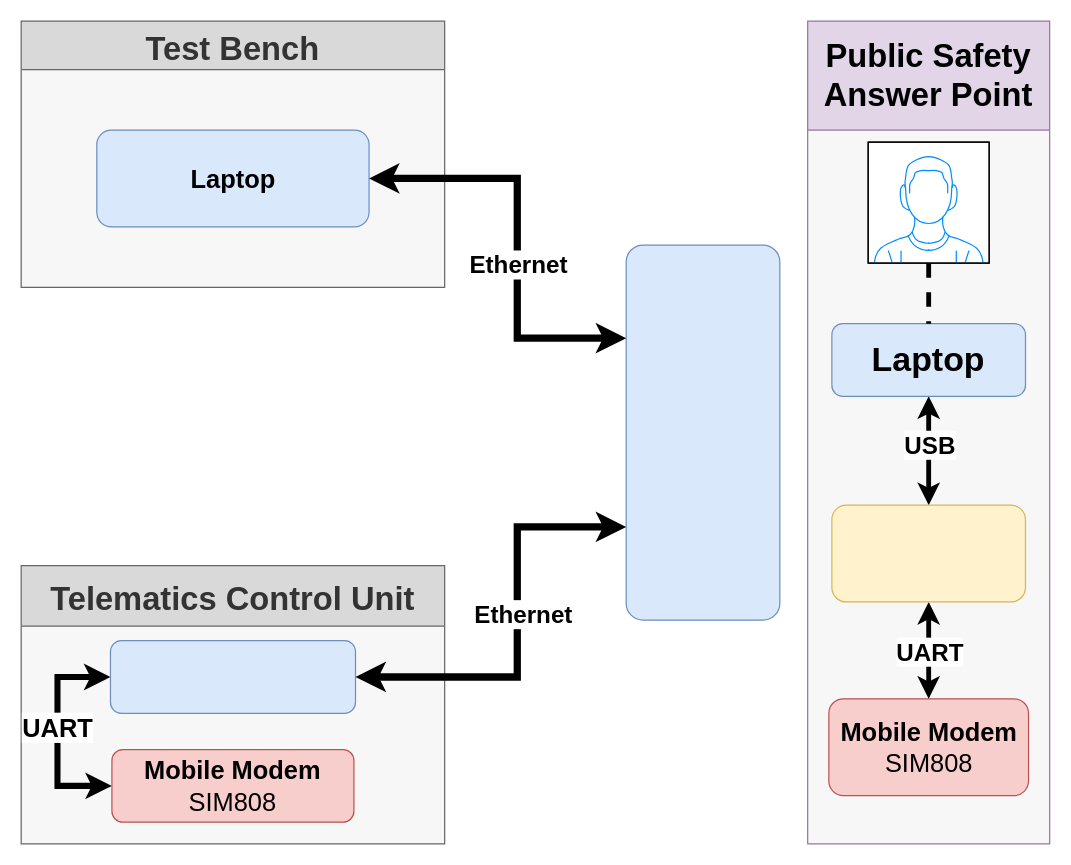
This 1071x865 diagram has some shape labels left out. The shapes that lost their labels are listed below. From the top down, each one's centre as x and y in pixels, then its label:
At (702,432): "Vehicle Ethernet Switch".
At (928,553): "USB to TTL Converter".
At (232,676): "Raspberry Pi 3".
